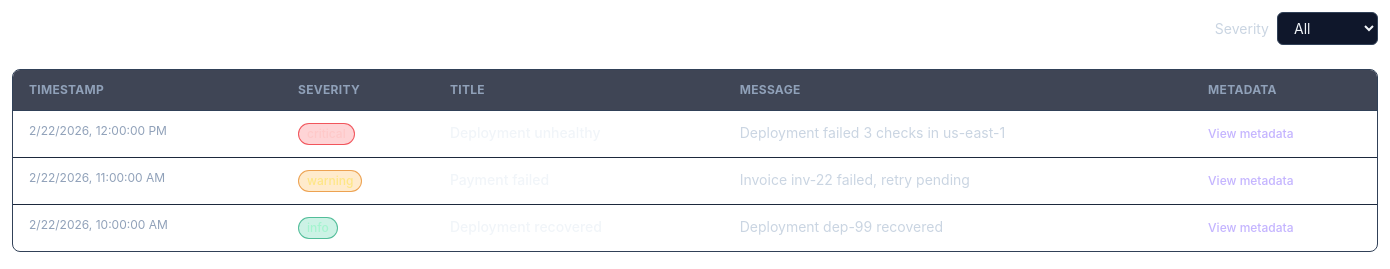
Test: Admin alerts page › renders alerts table and filters rows by severity dropdown
This screenshot has width=1390, height=269.
Select "Critical" in the dropdown with test id "severity-filter": (1328, 28) [1277,12,1378,45]
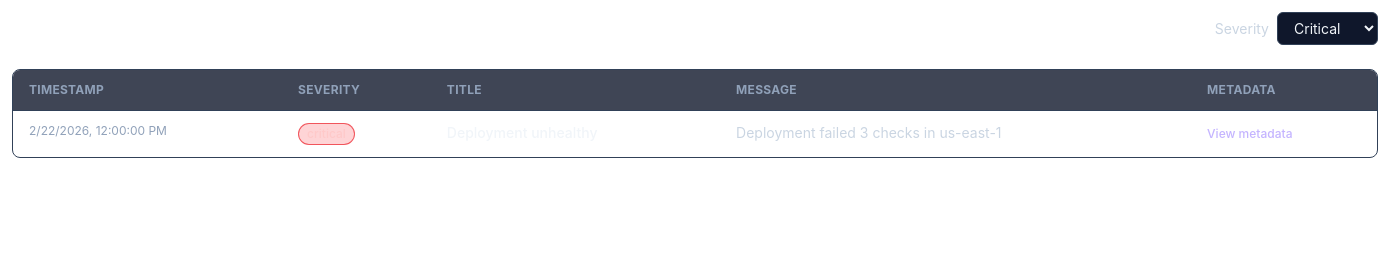
Expected: the text "Payment failed" is gone
Expected: the text "Deployment recovered" is gone
